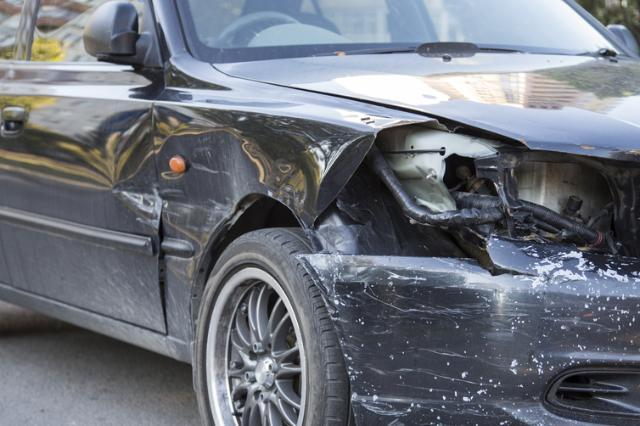Bumper: (298, 256, 640, 426)
Door: (92, 94, 164, 347)
Fender: (156, 72, 331, 219)
Light: (369, 119, 640, 257)
